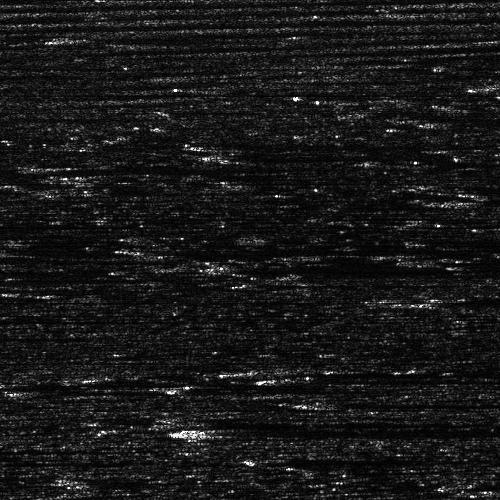object: (185, 366, 320, 379), (223, 371, 358, 384), (368, 294, 483, 307), (265, 398, 370, 407), (406, 197, 500, 206), (411, 117, 484, 128), (11, 163, 104, 170), (151, 416, 224, 423), (432, 480, 485, 489), (242, 454, 295, 463), (166, 382, 219, 389), (0, 114, 7, 119)
shadow: (253, 366, 500, 379), (291, 371, 500, 384), (0, 165, 201, 178), (193, 382, 458, 389), (57, 163, 311, 170), (269, 454, 455, 463), (317, 398, 500, 407), (426, 294, 500, 307), (0, 331, 82, 340), (188, 416, 276, 423), (447, 117, 500, 128), (458, 480, 500, 489), (458, 197, 500, 206), (0, 114, 69, 119)
